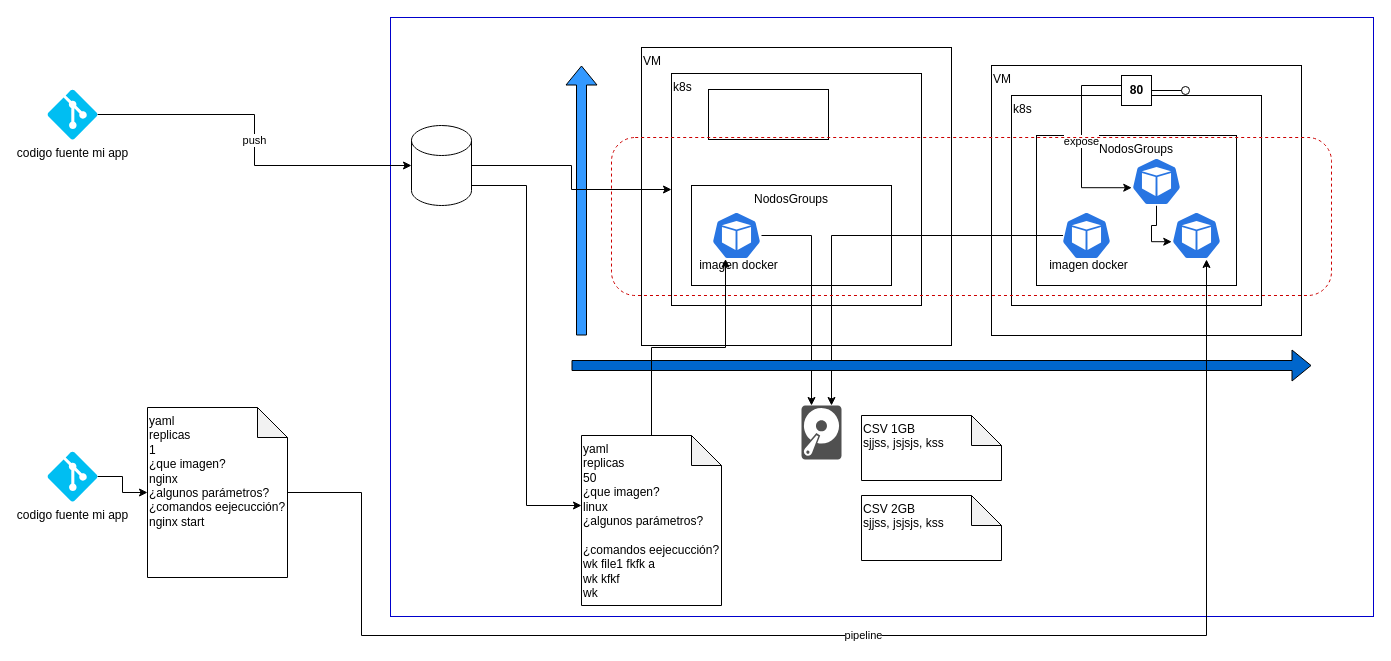
The diagram is 1391 pixels wide and 661 high, and some of its shapes have lost their labels. Here are the shapes that lost their labels. From the top down, the centre of each, then its label:
At point (768, 114): "Manager".
At point (441, 165): "dockerhub".
At point (1156, 181): "LB".
At point (1196, 235): "nginx:80".
